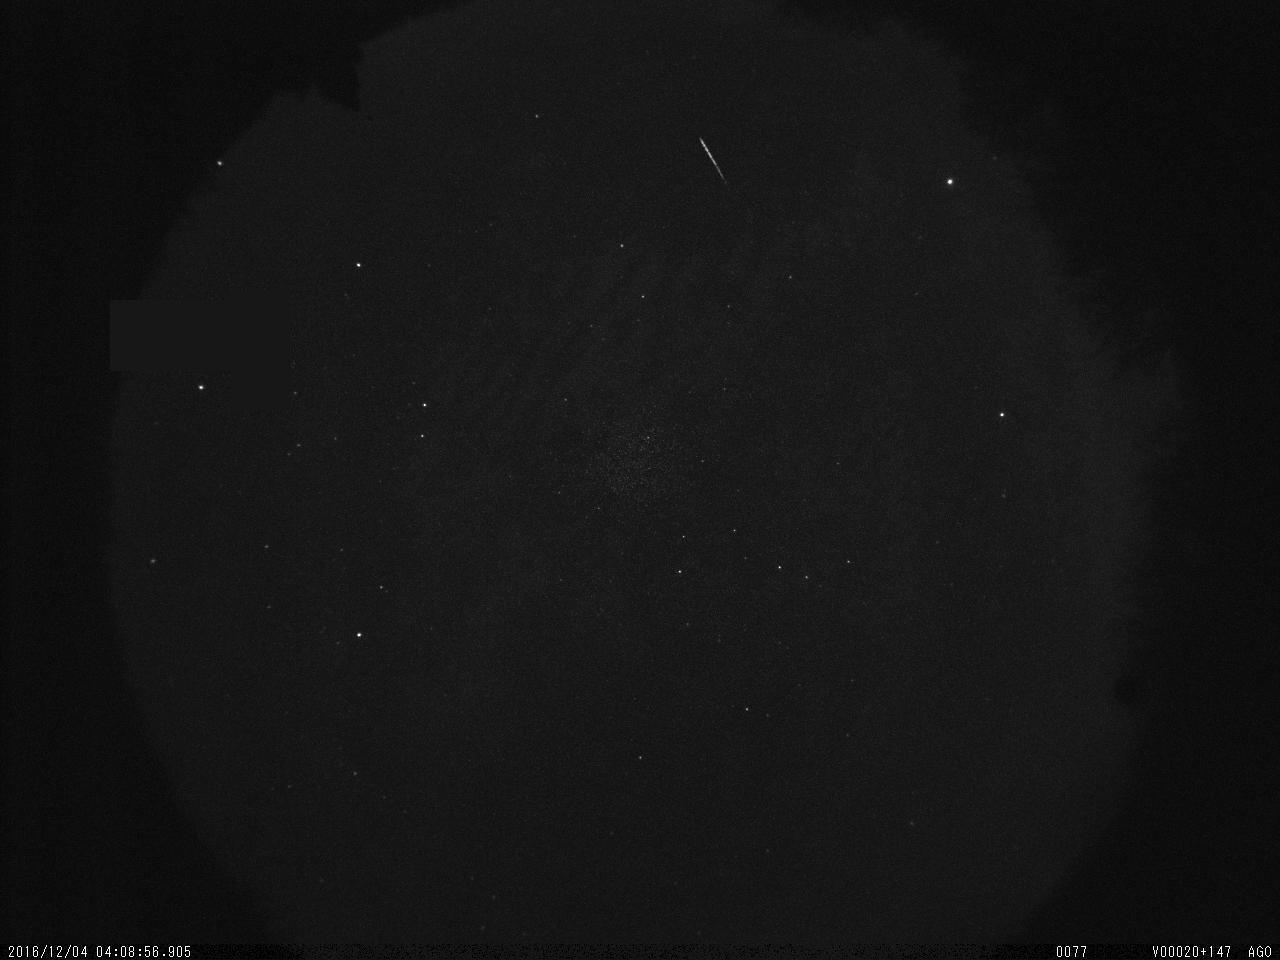meteor: (692, 128, 737, 190)
